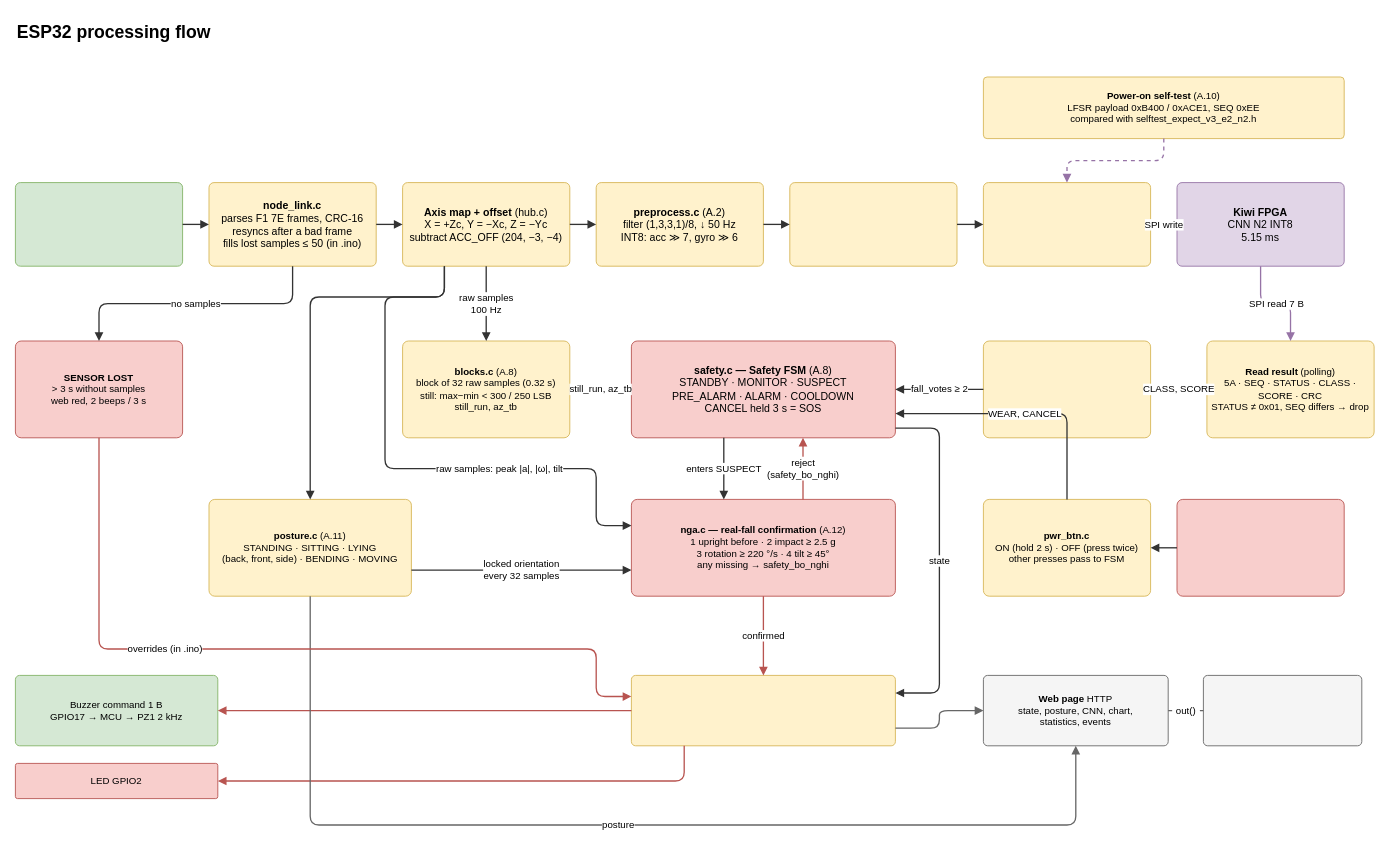
Some shapes in this 1390 by 847 pixel diagram are drawn without their labels. Here are the shapes that lost their labels. From the top down, the box of each, then its label:
(15, 182, 183, 266): UART2 RX GPIO16, 115200 from MCU
(789, 182, 957, 266): Window (A.3) ring 128 × 6 (2.56 s) every 16 samples (0.32 s) i = t × 6 + c
(983, 182, 1151, 266): spi_frame.c (A.7) A5 · SEQ · 768 B · CRC-16 = 772 B, one CS low period
(983, 340, 1151, 438): Voting fall_votes = FALL windows in the last 3
(1176, 499, 1344, 596): SW3 button (bit in sample frame) BOOT button GPIO0 Web Cancel / Turn on buttons
(631, 675, 895, 746): hub_coi / hub_ten_trang_thai fall buzzer only after confirmation (SOS always)
(1203, 675, 1362, 746): Log USB 460800 + WiFi TCP 3333 (N, P, STAT… lines)
